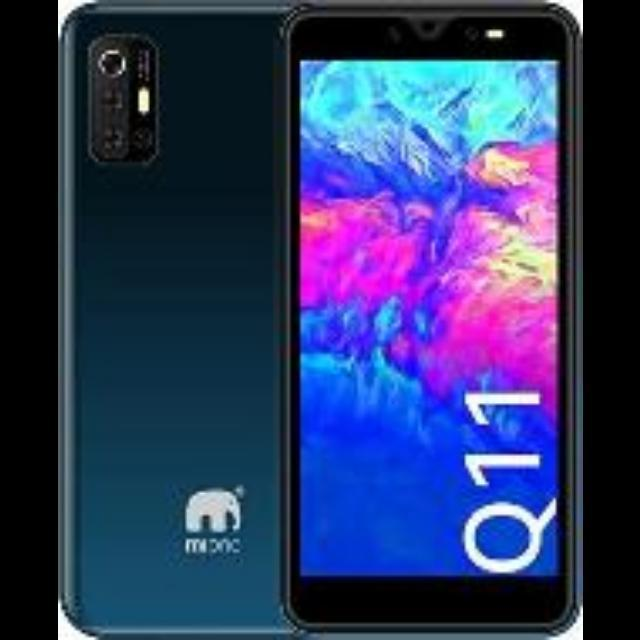phone: (276, 8, 600, 618), (52, 7, 316, 623)
